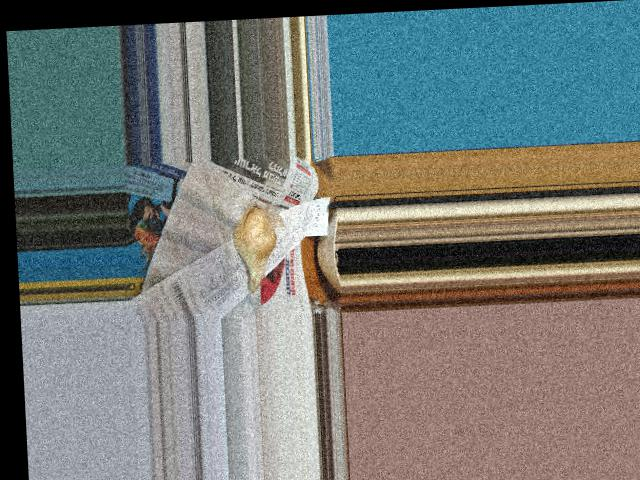onion: (235, 204, 276, 282)
